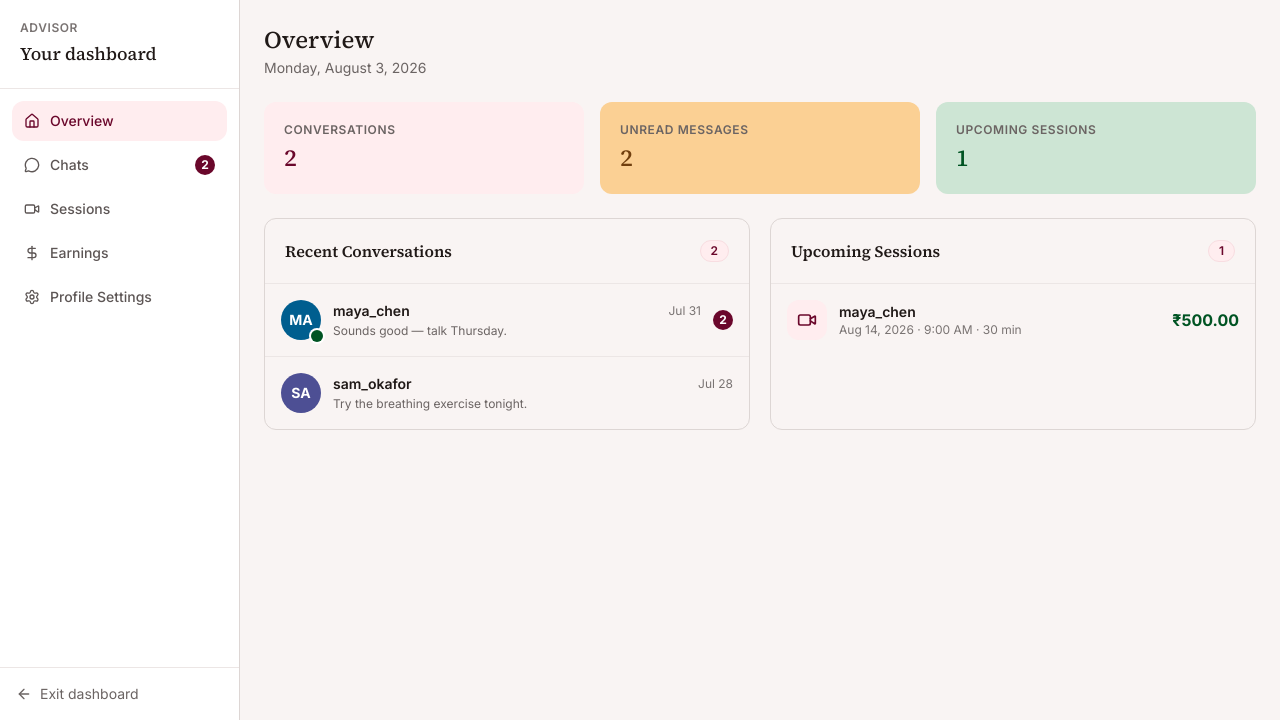
it: AdvisorDashboardPage › features with no backend yet › says earnings are coming soon rather than inventing a payout figure
Click the button "Earnings" at (120, 253), box top-left (12, 233), bottom-right (227, 273)
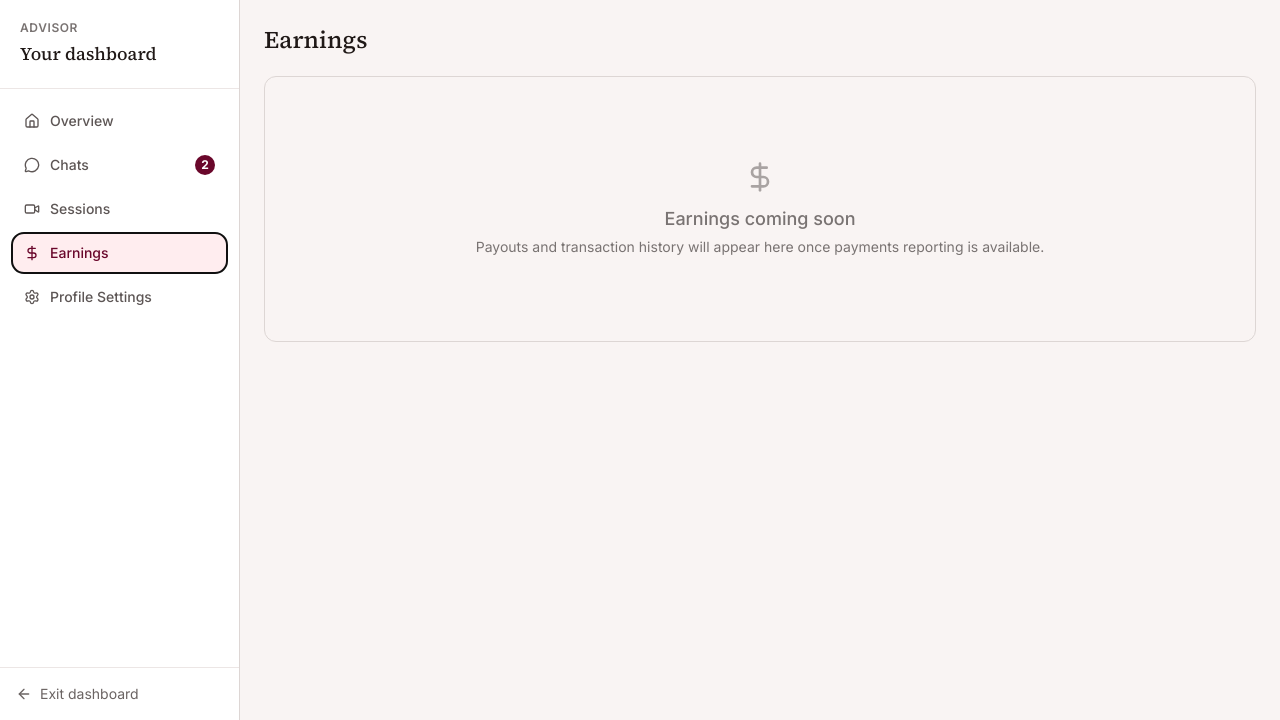
Expected: the text "Earnings coming soon" is shown, top-left (664, 208), bottom-right (855, 229)
Expected: the text "Payouts and transaction history will appear here" is shown, top-left (476, 238), bottom-right (1044, 255)
